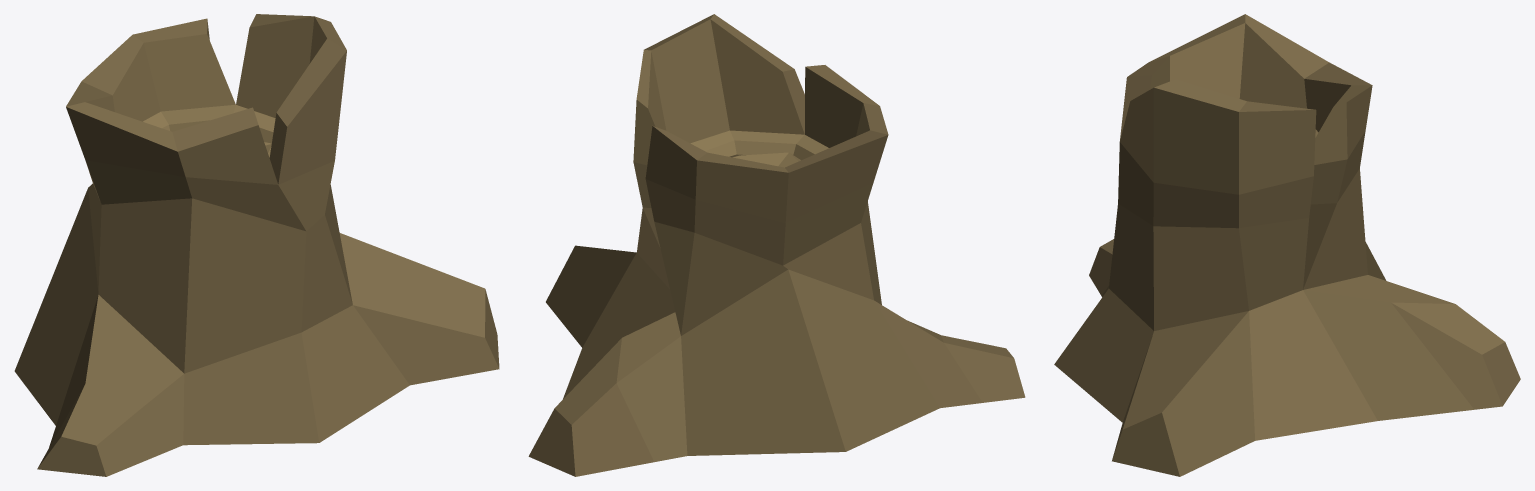
Rendered from Stump_2.fbx.
The picture shows the model from 3 angles, left to right: view 1: azimuth 30°, elevation 25°; view 2: azimuth 150°, elevation 25°; view 3: azimuth 270°, elevation 25°; orthographic projection. The views are drawn at different scales.
Visible parts, largest first — view 1: Stump_2; view 2: Stump_2; view 3: Stump_2.
Boxes of the visible parts, x1,y1,x2,y2 form: Stump_2: (14, 14, 499, 476); Stump_2: (528, 14, 1025, 476); Stump_2: (1054, 14, 1520, 476).
Bounding box in the file's own units: 138 × 92.72 × 123.
